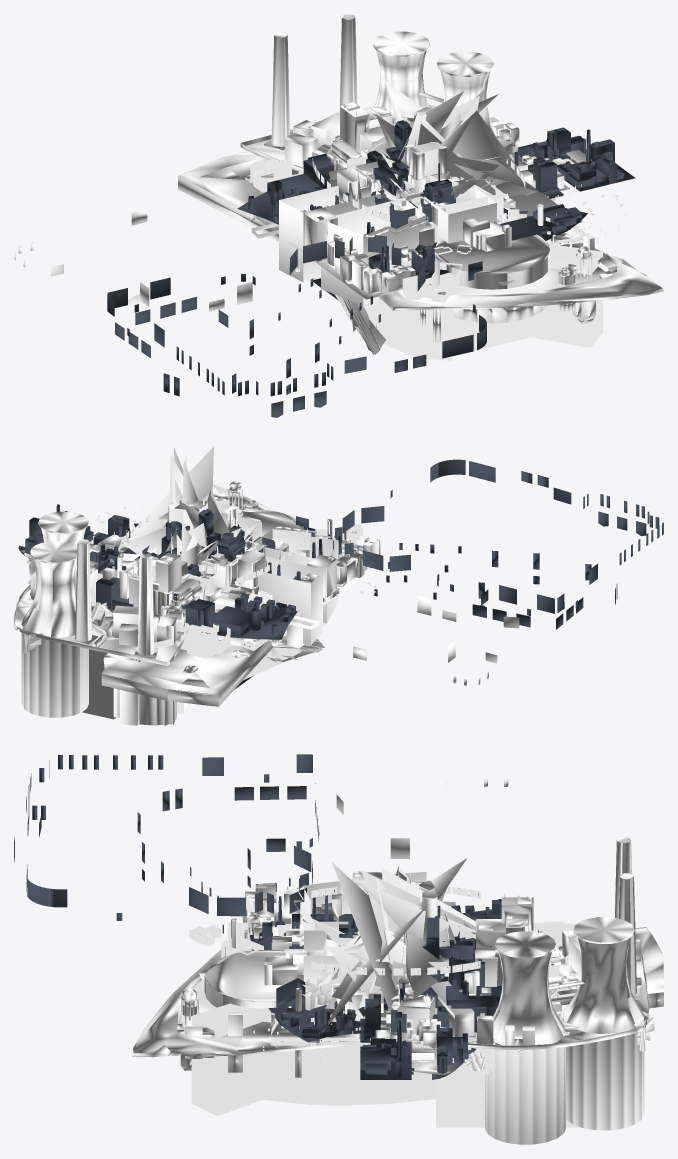
Rendered from fp_island2.glb.
3 views of the same model, one above another, from view 1: azimuth 30°, elevation 25°; view 2: azimuth 150°, elevation 25°; view 3: azimuth 270°, elevation 25° (orthographic). The views are drawn at different scales.
Parts seen in each view (by area): view 1: GC_Footprint_VRS_LongDist, GC_Footprint_VPOW_LongDist, GC_Footprint_LG_Reflections, GC_Footprint_STD_Reflection, GC_Footprint_ZD_Reflection, GC_Footprint_CC_LongDist, GC_Footprint_DF_LongDist, GC_Footprint_CF_LongDist, GC_Footprint_AJ_LongDist, GC_Footprint_CG_LongDist, GC_Footprint_VRS_Reflection, GC_Footprint_ZF_reflection (+11 smaller); view 2: GC_Footprint_VPOW_LongDist, GC_Footprint_VPOW_Reflection, GC_Footprint_VRS_LongDist, GC_Footprint_DF_LongDist, GC_Footprint_LG_Reflections, GC_Footprint_ZD_Reflection, GC_Footprint_CC_LongDist, GC_Footprint_CF_LongDist, GC_Footprint_VRS_Reflection, GC_Footprint_ZF_reflection, GC_Footprint_ZA_Reflection, GC_Footprint_CJ_LongDist (+16 smaller); view 3: GC_Footprint_VPOW_LongDist, GC_Footprint_VPOW_Reflection, GC_Footprint_STD_Reflection, GC_Footprint_VRS_LongDist, GC_Footprint_CC_LongDist, GC_Footprint_DF_LongDist, GC_Footprint_AJ_LongDist, GC_Footprint_ZD_Reflection, GC_Footprint_CF_LongDist, GC_Footprint_CG_LongDist, GC_Footprint_CJ_LongDist, GC_Footprint_DSE_Reflection (+14 smaller).
Boxes of the visible parts, x1,y1,x2,y2 form: GC_Footprint_VRS_LongDist: (179,151,663,310); GC_Footprint_VPOW_LongDist: (240,14,525,171); GC_Footprint_LG_Reflections: (279,179,496,305); GC_Footprint_STD_Reflection: (334,240,602,360); GC_Footprint_ZD_Reflection: (107,234,486,417); GC_Footprint_CC_LongDist: (328,89,520,223); GC_Footprint_DF_LongDist: (237,140,587,286); GC_Footprint_CF_LongDist: (288,199,515,299); GC_Footprint_AJ_LongDist: (517,127,635,198); GC_Footprint_CG_LongDist: (379,81,567,222); GC_Footprint_VRS_Reflection: (178,151,595,342); GC_Footprint_ZF_reflection: (250,151,626,302); GC_Footprint_VPOW_LongDist: (14,511,189,665); GC_Footprint_VPOW_Reflection: (21,633,188,725); GC_Footprint_VRS_LongDist: (102,481,333,695); GC_Footprint_DF_LongDist: (89,523,341,639); GC_Footprint_LG_Reflections: (232,516,338,645); GC_Footprint_ZD_Reflection: (328,459,663,616); GC_Footprint_CC_LongDist: (130,447,237,633); GC_Footprint_CF_LongDist: (238,509,384,611); GC_Footprint_VRS_Reflection: (101,624,289,706); GC_Footprint_ZF_reflection: (91,506,376,658); GC_Footprint_ZA_Reflection: (296,516,617,629); GC_Footprint_CJ_LongDist: (30,532,203,610); GC_Footprint_VPOW_LongDist: (431,837,649,1049); GC_Footprint_VPOW_Reflection: (485,1033,644,1144); GC_Footprint_STD_Reflection: (191,948,435,1115); GC_Footprint_VRS_LongDist: (132,918,663,1057); GC_Footprint_CC_LongDist: (310,861,476,1013); GC_Footprint_DF_LongDist: (249,895,501,1042); GC_Footprint_AJ_LongDist: (360,955,484,1079); GC_Footprint_ZD_Reflection: (14,754,315,920); GC_Footprint_CF_LongDist: (199,871,382,985); GC_Footprint_CG_LongDist: (315,858,475,1034); GC_Footprint_CJ_LongDist: (375,949,534,1048); GC_Footprint_DSE_Reflection: (436,1036,623,1127).
Size of what is drawn, in the model's own units: 671 by 276 by 634.
